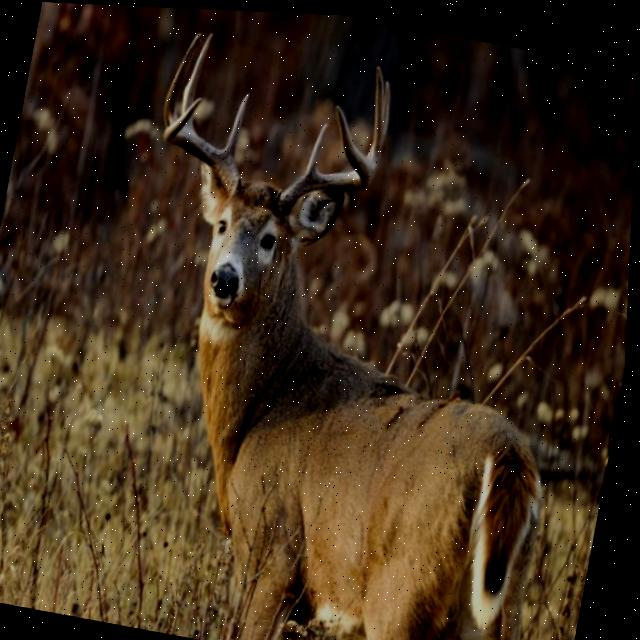L-F: (280, 101, 375, 207)
L-G1: (305, 120, 329, 171)
L-G3: (367, 62, 384, 168)
R-F: (164, 95, 241, 191)
R-G1: (225, 90, 250, 157)
R-G3: (164, 31, 202, 125)
